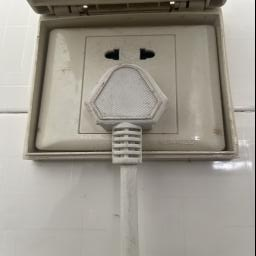outlet: (28, 16, 237, 168)
